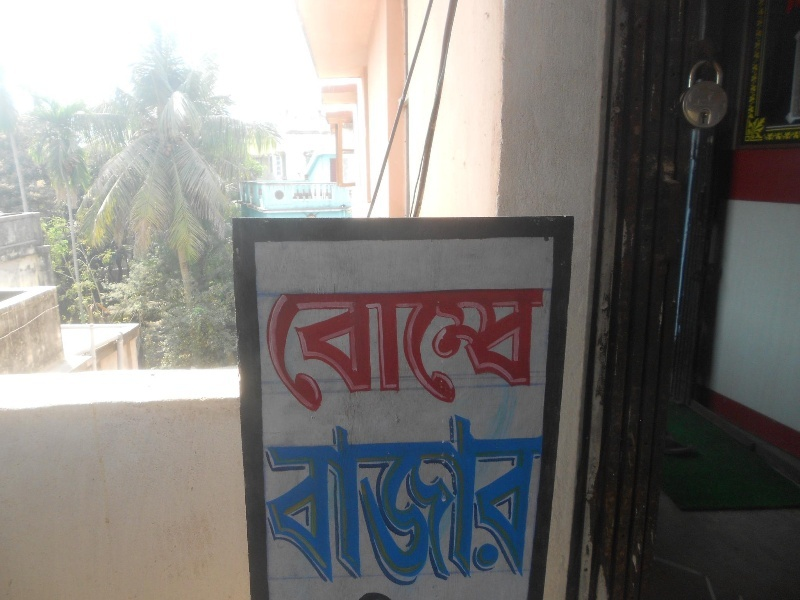text: (273, 411, 288, 590), (289, 411, 304, 590), (305, 411, 320, 590), (321, 411, 336, 590), (337, 411, 352, 590), (353, 411, 368, 590), (369, 411, 384, 590), (385, 411, 400, 590), (401, 411, 416, 590), (417, 411, 432, 590), (433, 411, 448, 590), (449, 411, 464, 590), (465, 411, 480, 590), (481, 411, 496, 590), (497, 411, 512, 590), (513, 411, 528, 590), (529, 411, 544, 590), (273, 412, 288, 587), (289, 412, 304, 587), (305, 412, 320, 587), (321, 412, 336, 587), (337, 412, 352, 587), (353, 412, 368, 587), (369, 412, 384, 587), (385, 412, 400, 587), (401, 412, 416, 587), (417, 412, 432, 587), (433, 412, 448, 587), (449, 412, 464, 587), (465, 412, 480, 587), (481, 412, 496, 587), (497, 412, 512, 587), (513, 412, 528, 587), (529, 412, 544, 587), (273, 277, 288, 421), (289, 277, 304, 421), (305, 277, 320, 421), (321, 277, 336, 421), (337, 277, 352, 421), (353, 277, 368, 421), (369, 277, 384, 421), (385, 277, 400, 421), (401, 277, 416, 421), (417, 277, 432, 421), (433, 277, 448, 421), (449, 277, 464, 421), (465, 277, 480, 421), (481, 277, 496, 421), (497, 277, 512, 421), (513, 277, 528, 421), (529, 277, 544, 421), (529, 287, 545, 413), (273, 287, 288, 413), (289, 287, 304, 413), (305, 287, 320, 413), (321, 287, 336, 413), (337, 287, 352, 413), (353, 287, 368, 413), (369, 287, 384, 413), (385, 287, 400, 413), (401, 287, 416, 413), (417, 287, 432, 413), (433, 287, 448, 413), (449, 287, 464, 413), (465, 287, 480, 413), (481, 287, 496, 413), (497, 287, 512, 413), (513, 287, 528, 413), (262, 277, 272, 421), (265, 411, 272, 590), (545, 411, 551, 590), (266, 412, 272, 587), (267, 287, 272, 413), (545, 412, 548, 587), (545, 277, 546, 421)
